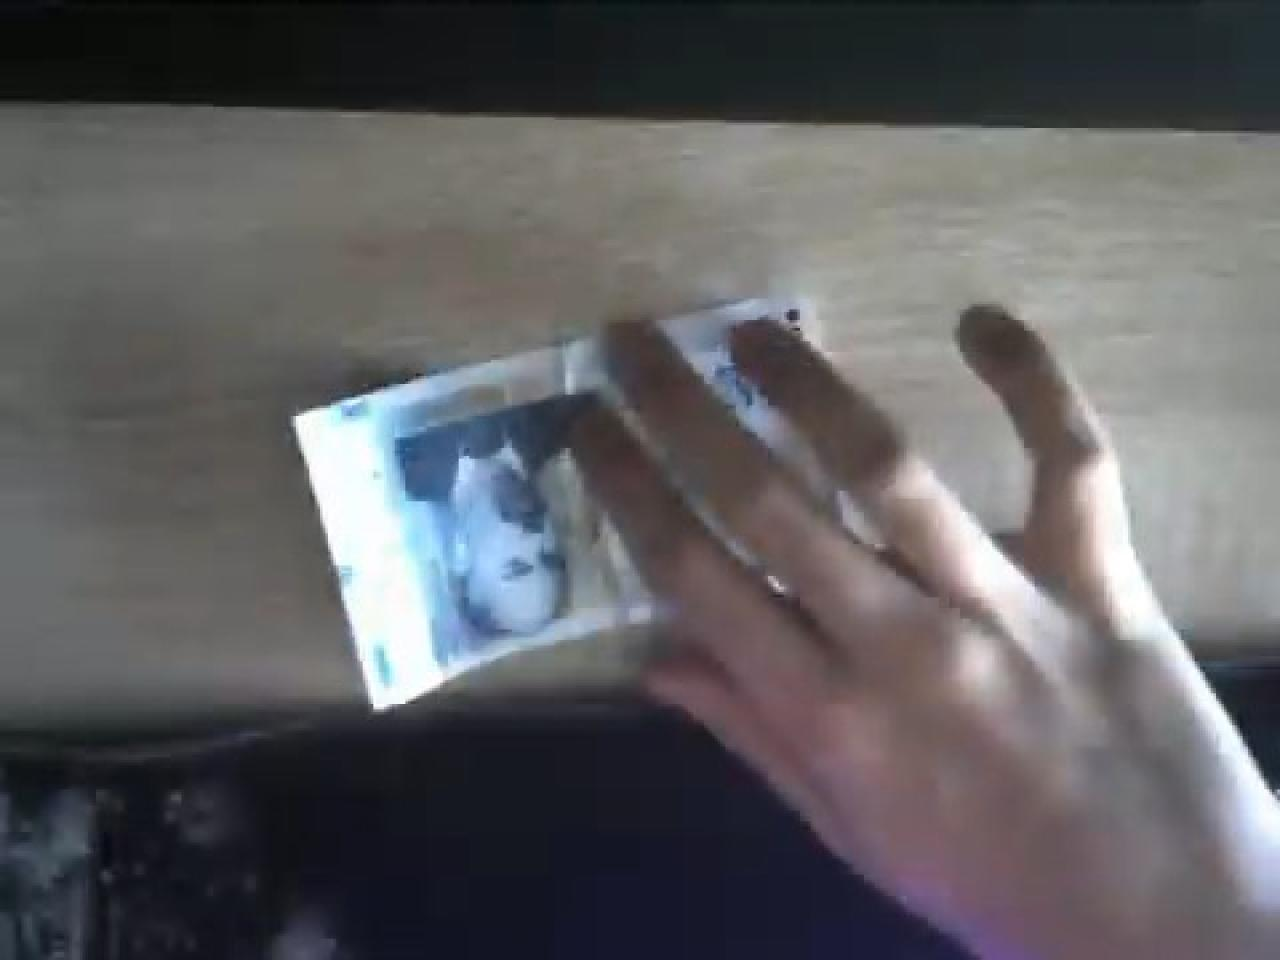20leva: (389, 392, 603, 650)
